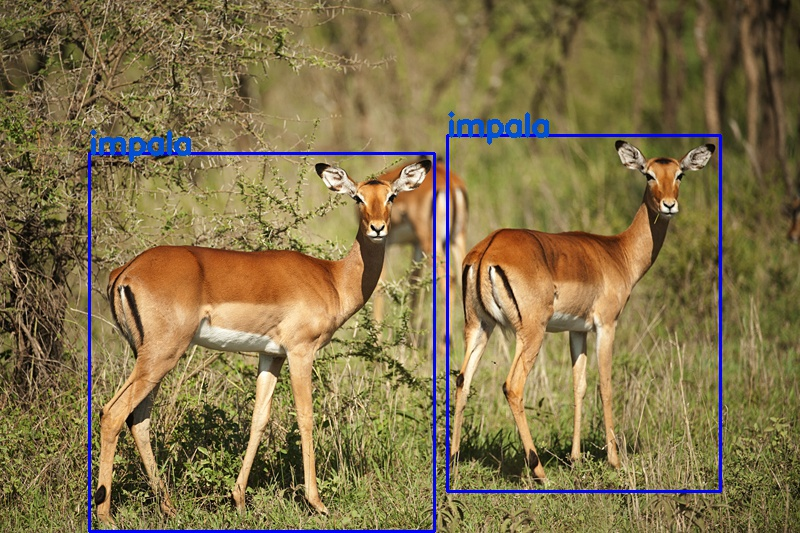impala: (89, 153, 434, 530), (447, 135, 720, 490)
